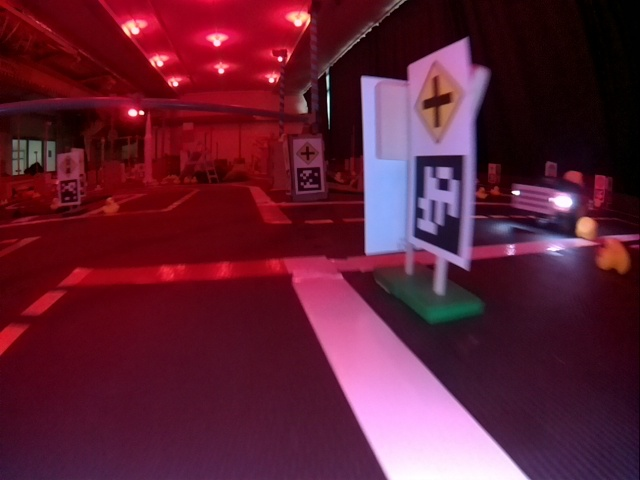Duckie: (596, 240, 629, 272), (575, 218, 599, 239), (101, 197, 119, 214)
Duckiebot: (512, 178, 579, 230)
Intersection sign: (408, 50, 469, 150), (294, 140, 319, 163)
QR code: (410, 156, 471, 266), (296, 168, 322, 194), (59, 181, 79, 205)
Signal sign: (57, 154, 77, 179)
Traffic light: (125, 94, 146, 120)
